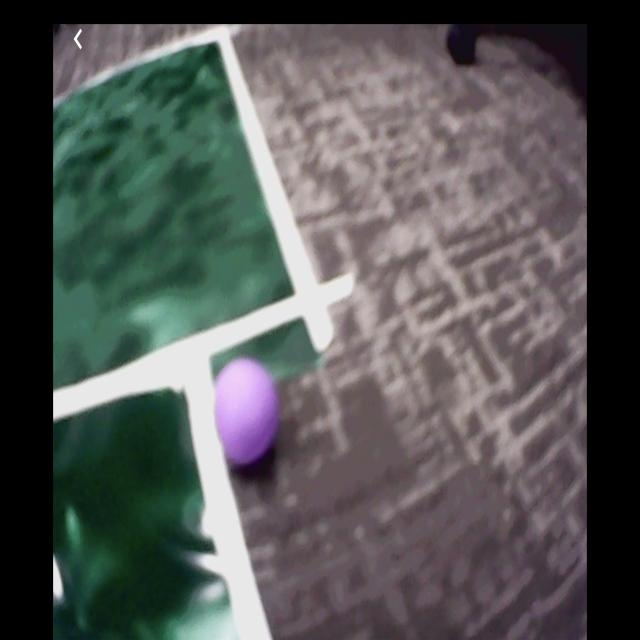ball: (213, 357, 279, 465)
